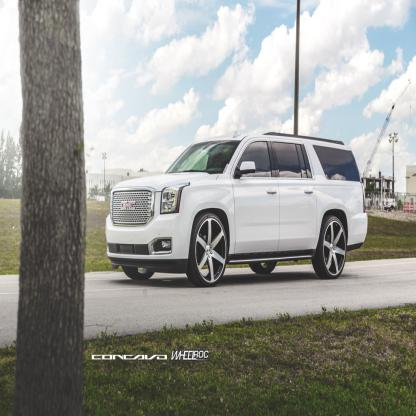Car: (106, 132, 368, 287)
